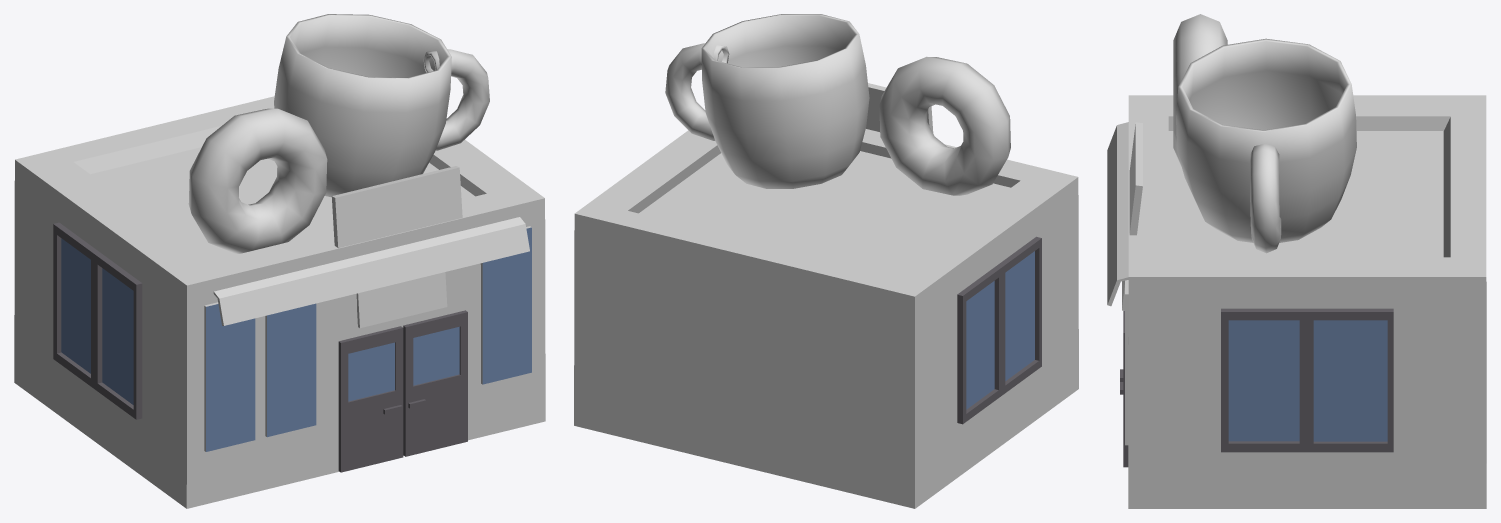
Rendered from Cafeteria.fbx.
3 renders of one model, left to right at view 1: azimuth 30°, elevation 25°; view 2: azimuth 150°, elevation 25°; view 3: azimuth 270°, elevation 25°, orthographic. The views are drawn at different scales.
Visible parts, largest first — view 1: SimpleStore.003, SimpleStore, Cylinder.031, Torus, SimpleStore.002, SimpleStore.001; view 2: SimpleStore.003, Cylinder.031, Torus, SimpleStore, SimpleStore.001; view 3: SimpleStore.003, Cylinder.031, SimpleStore, SimpleStore.002, Torus, SimpleStore.001.
Part boxes in pixels (box(x1,y1,x2,y2)): SimpleStore.003: box(14, 96, 545, 508); SimpleStore: box(53, 222, 531, 472); Cylinder.031: box(274, 14, 489, 197); Torus: box(188, 108, 327, 253); SimpleStore.002: box(213, 217, 529, 325); SimpleStore.001: box(331, 166, 462, 328); SimpleStore.003: box(574, 129, 1078, 508); Cylinder.031: box(665, 14, 869, 188); Torus: box(879, 56, 1010, 195); SimpleStore: box(957, 236, 1041, 424); SimpleStore.001: box(866, 83, 933, 132); SimpleStore.003: box(1128, 95, 1486, 508); Cylinder.031: box(1176, 38, 1356, 253); SimpleStore: box(1120, 280, 1393, 467); SimpleStore.002: box(1107, 122, 1128, 306); Torus: box(1173, 14, 1227, 166); SimpleStore.001: box(1122, 122, 1142, 310).
Bounding box in the file's own units: 979 × 911 × 828.
